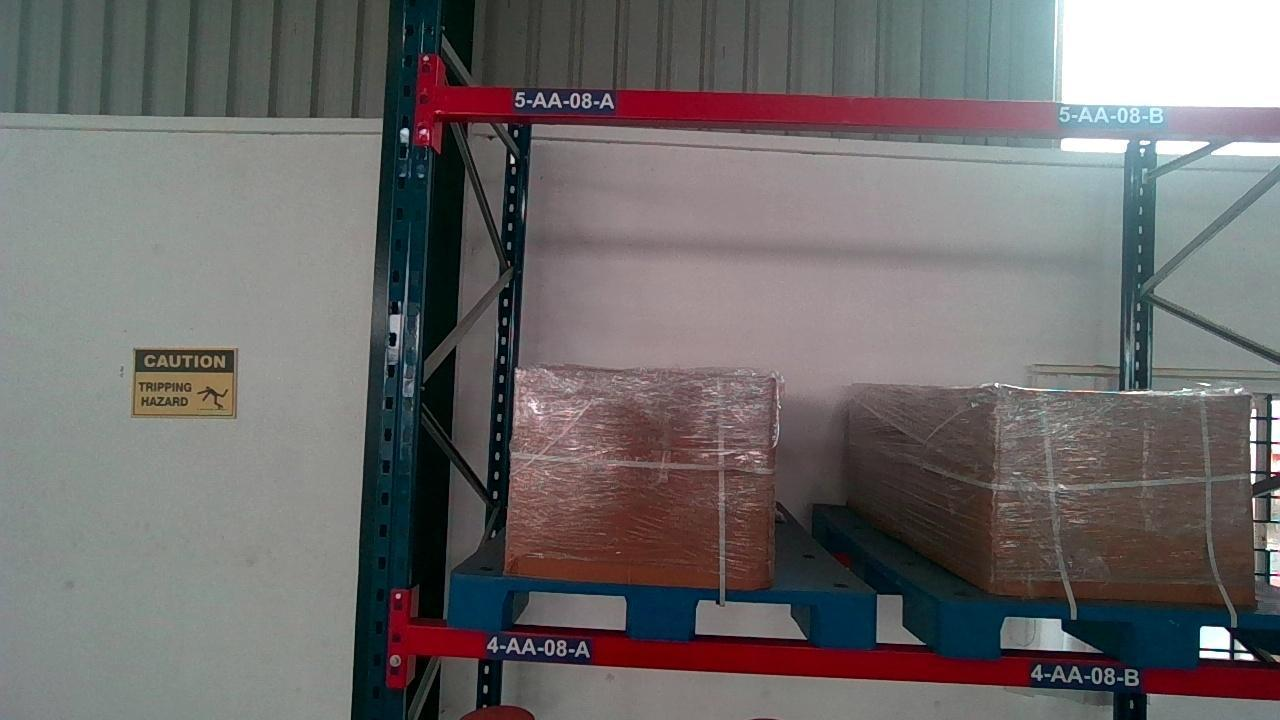h_rack: (413, 635, 1280, 687), (437, 86, 1070, 127), (1048, 102, 1280, 137)
small_pallet: (445, 578, 881, 644), (950, 604, 1279, 664)
